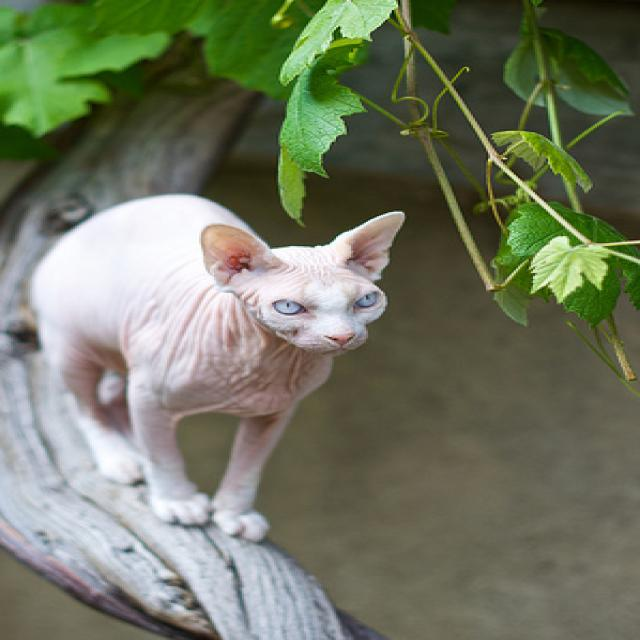Sphynx: (25, 190, 411, 544)
